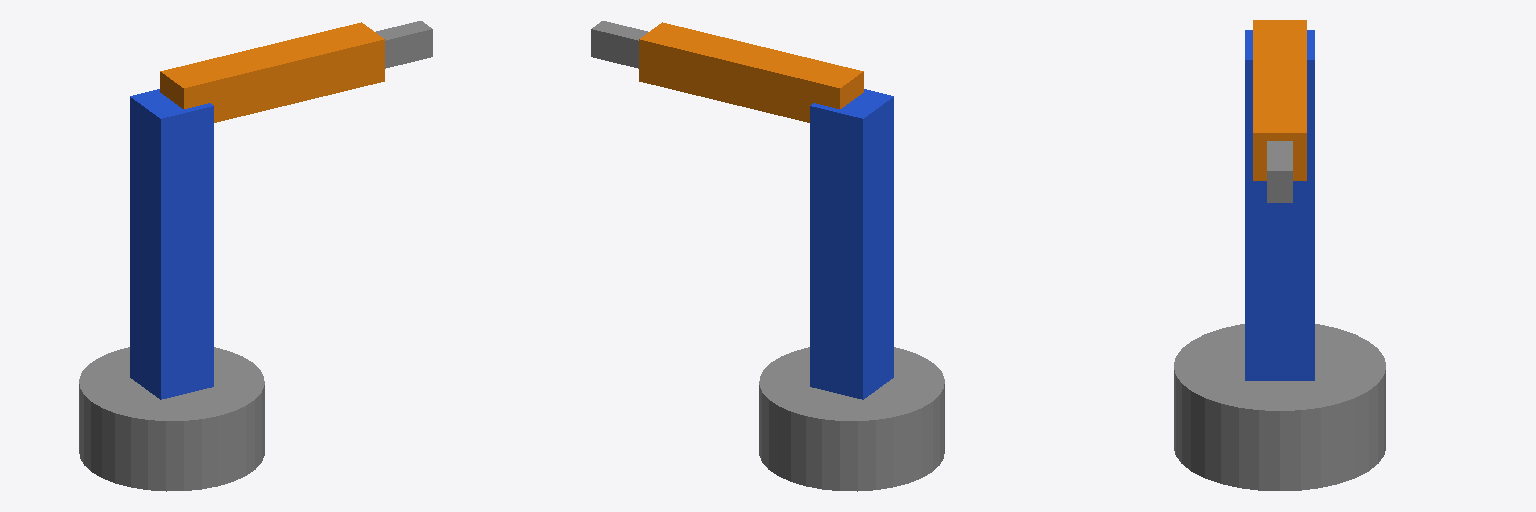
URDF robot description (example_arm):
<?xml version="1.0"?>
<!-- A small arm from primitive shapes: a turntable, an elbow and a two-finger gripper. The right finger mimics the left
     one, mirrored. The fingers touch at zero, and open as the left finger's joint rises. -->
<robot name="example_arm">
  <material name="grey"><color rgba="0.6 0.6 0.6 1"/></material>
  <material name="blue"><color rgba="0.2 0.4 0.9 1"/></material>
  <material name="orange"><color rgba="0.95 0.55 0.1 1"/></material>

  <link name="base_link">
    <visual>
      <origin xyz="0 0 0.05"/>
      <geometry><cylinder radius="0.12" length="0.1"/></geometry>
      <material name="grey"/>
    </visual>
  </link>
  <link name="upper_arm">
    <visual>
      <origin xyz="0 0 0.2"/>
      <geometry><box size="0.08 0.08 0.4"/></geometry>
      <material name="blue"/>
    </visual>
  </link>
  <link name="forearm">
    <visual>
      <origin xyz="0.15 0 0"/>
      <geometry><box size="0.3 0.06 0.06"/></geometry>
      <material name="orange"/>
    </visual>
  </link>
  <link name="finger_left">
    <visual>
      <origin xyz="0.04 0 0"/>
      <geometry><box size="0.08 0.015 0.04"/></geometry>
      <material name="grey"/>
    </visual>
  </link>
  <link name="finger_right">
    <visual>
      <origin xyz="0.04 0 0"/>
      <geometry><box size="0.08 0.015 0.04"/></geometry>
      <material name="grey"/>
    </visual>
  </link>

  <joint name="turntable" type="revolute">
    <parent link="base_link"/><child link="upper_arm"/>
    <origin xyz="0 0 0.1"/><axis xyz="0 0 1"/>
    <limit lower="-3.14" upper="3.14" effort="10" velocity="1"/>
  </joint>
  <joint name="elbow" type="revolute">
    <parent link="upper_arm"/><child link="forearm"/>
    <origin xyz="0 0 0.4"/><axis xyz="0 1 0"/>
    <limit lower="-1.5" upper="1.5" effort="10" velocity="1"/>
  </joint>
  <joint name="finger_left_joint" type="prismatic">
    <parent link="forearm"/><child link="finger_left"/>
    <origin xyz="0.3 0.0075 0"/><axis xyz="0 1 0"/>
    <limit lower="0.0" upper="0.03" effort="1" velocity="0.1"/>
  </joint>
  <joint name="finger_right_joint" type="prismatic">
    <parent link="forearm"/><child link="finger_right"/>
    <origin xyz="0.3 -0.0075 0"/><axis xyz="0 1 0"/>
    <limit lower="-0.03" upper="0.0" effort="1" velocity="0.1"/>
    <mimic joint="finger_left_joint" multiplier="-1"/>
  </joint>
</robot>

--- What the picture shows (computed from the rendered views, not written in the file) ---
The picture shows the robot from 3 angles, left to right: view 1: azimuth 30°, elevation 25°; view 2: azimuth 150°, elevation 25°; view 3: azimuth 270°, elevation 25°; orthographic projection.
Model example_arm with 5 links and 4 joints (2 revolute, 2 prismatic), rooted at base_link, posed every joint at zero.
Visible links, largest first — view 1: upper_arm, base_link, forearm, finger_right; view 2: upper_arm, base_link, forearm, finger_left; view 3: base_link, upper_arm, forearm, finger_left, finger_right.
Link boxes in pixels (bbox=[...]): upper_arm: bbox=[130, 89, 213, 399]; base_link: bbox=[79, 347, 264, 491]; forearm: bbox=[160, 22, 384, 122]; finger_right: bbox=[381, 25, 432, 68]; upper_arm: bbox=[810, 89, 893, 399]; base_link: bbox=[759, 347, 944, 491]; forearm: bbox=[639, 22, 863, 122]; finger_left: bbox=[591, 25, 642, 68]; base_link: bbox=[1174, 324, 1385, 490]; upper_arm: bbox=[1245, 30, 1314, 380]; forearm: bbox=[1253, 20, 1306, 180]; finger_left: bbox=[1280, 141, 1292, 202]; finger_right: bbox=[1267, 141, 1279, 202].
Bounding box of the posed robot: 0.5 × 0.24 × 0.53 m (x, y, z).
Geometry: primitives only (box / cylinder / sphere), no mesh files.
